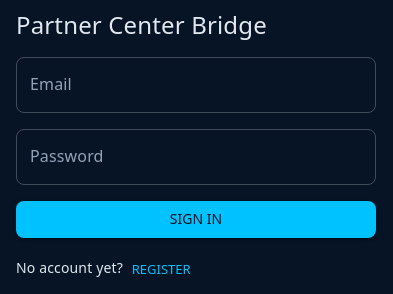
Test: Login › moves to the MFA step on a challenge response
In the field labelled "Email": (196, 85) [16,57,376,113], type "a@b.com"
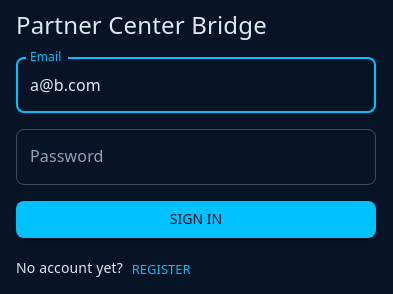
In the password field labelled "Password": (196, 157) [16,129,376,185], type "hunter2222222"
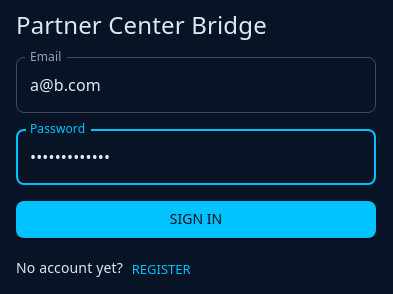
Click the button "Sign in": (196, 220) [16,201,376,238]
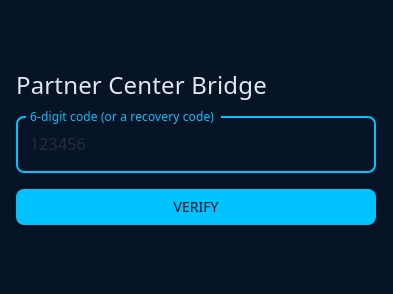
Expected: the field labelled "6-digit code (or a recovery code)" is shown, [16,117,376,173]
